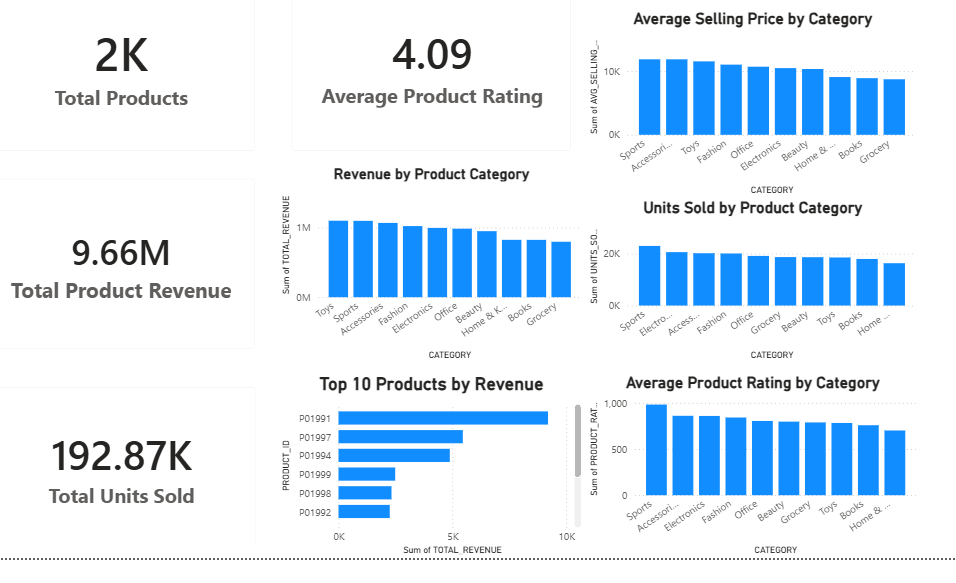

The page's visual inventory and layout, read from the dashboard file:
{"tool":"powerbi","page":{"name":"Product Performance","canvas":[1280,720],"ordinal":2},"visuals":[{"type":"cardVisual","fields":{"Data":["Count(VW_PRODUCT_PERFORMANCE.PRODUCT_ID)"]},"box":[10,0,361.7,243.3],"z":0},{"type":"cardVisual","fields":{"Data":["Sum(VW_PRODUCT_PERFORMANCE.TOTAL_REVENUE)"]},"box":[10,243.3,361.7,241.7],"z":1},{"type":"cardVisual","fields":{"Data":["Sum(VW_PRODUCT_PERFORMANCE.UNITS_SOLD)"]},"box":[10,495,362,225],"z":2},{"type":"cardVisual","fields":{"Data":["Avg(VW_PRODUCT_PERFORMANCE.PRODUCT_RATING)"]},"box":[381.7,0,373.3,243.3],"z":3},{"type":"clusteredColumnChart","title":"Revenue by Product Category","fields":{"Category":["VW_PRODUCT_PERFORMANCE.CATEGORY"],"Y":["Sum(VW_PRODUCT_PERFORMANCE.TOTAL_REVENUE)"]},"box":[381.7,243.3,373.3,241.7],"z":4},{"type":"clusteredBarChart","title":"Top 10 Products by Revenue","fields":{"Category":["VW_PRODUCT_PERFORMANCE.PRODUCT_ID"],"Y":["Sum(VW_PRODUCT_PERFORMANCE.TOTAL_REVENUE)"]},"box":[381.7,495,373.3,225],"z":5},{"type":"clusteredColumnChart","title":"Average Selling Price by Category","fields":{"Category":["VW_PRODUCT_PERFORMANCE.CATEGORY"],"Y":["Sum(VW_PRODUCT_PERFORMANCE.AVG_SELLING_PRICE)"]},"box":[755,53.3,406.7,230],"z":6},{"type":"clusteredColumnChart","title":"Units Sold by Product Category","fields":{"Category":["VW_PRODUCT_PERFORMANCE.CATEGORY"],"Y":["Sum(VW_PRODUCT_PERFORMANCE.UNITS_SOLD)"]},"box":[755,283.3,406.7,201.7],"z":7},{"type":"clusteredColumnChart","title":"Average Product Rating by Category","fields":{"Category":["VW_PRODUCT_PERFORMANCE.CATEGORY"],"Y":["Sum(VW_PRODUCT_PERFORMANCE.PRODUCT_RATING)"]},"box":[755,495,406.7,225],"z":8}]}

Visuals, with their boxes on the page's 1280x720 design canvas (x1, y1, x2, y2). These are canvas units, not pixel positions in the 956x583 screenshot, which may show the page scaled, cropped or inside an application window:
cardVisual - Count(VW_PRODUCT_PERFORMANCE.PRODUCT_ID): {"left": 10, "top": 0, "right": 372, "bottom": 243}
cardVisual - Sum(VW_PRODUCT_PERFORMANCE.TOTAL_REVENUE): {"left": 10, "top": 243, "right": 372, "bottom": 485}
cardVisual - Sum(VW_PRODUCT_PERFORMANCE.UNITS_SOLD): {"left": 10, "top": 495, "right": 372, "bottom": 720}
cardVisual - Avg(VW_PRODUCT_PERFORMANCE.PRODUCT_RATING): {"left": 382, "top": 0, "right": 755, "bottom": 243}
"Revenue by Product Category" clusteredColumnChart: {"left": 382, "top": 243, "right": 755, "bottom": 485}
"Top 10 Products by Revenue" clusteredBarChart: {"left": 382, "top": 495, "right": 755, "bottom": 720}
"Average Selling Price by Category" clusteredColumnChart: {"left": 755, "top": 53, "right": 1162, "bottom": 283}
"Units Sold by Product Category" clusteredColumnChart: {"left": 755, "top": 283, "right": 1162, "bottom": 485}
"Average Product Rating by Category" clusteredColumnChart: {"left": 755, "top": 495, "right": 1162, "bottom": 720}
